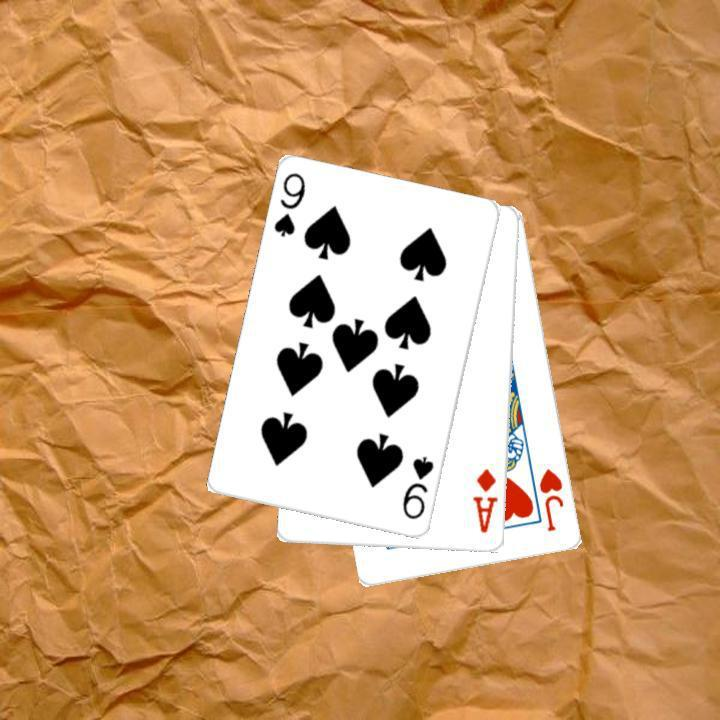9: (398, 452, 436, 522), (270, 169, 308, 239)
A: (469, 465, 500, 535)
J: (535, 464, 567, 534)
